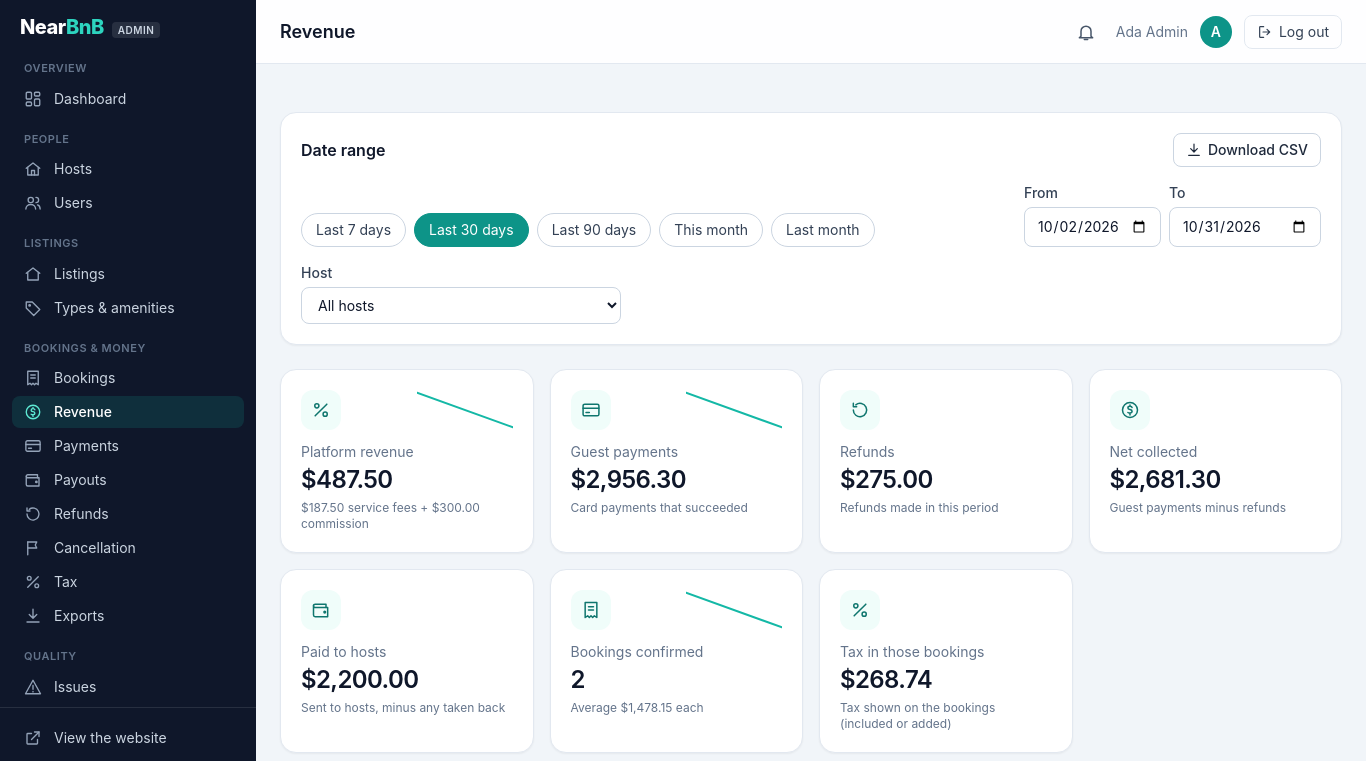
admin revenue page › limits every number to one host from the picker, and goes back to everyone
Expected: the element named "Revenue summary" is shown, [280, 369, 1342, 753]
Select "Hannah Host" in the dropdown labelled "Host": coordinates (461, 306) [301, 287, 621, 324]
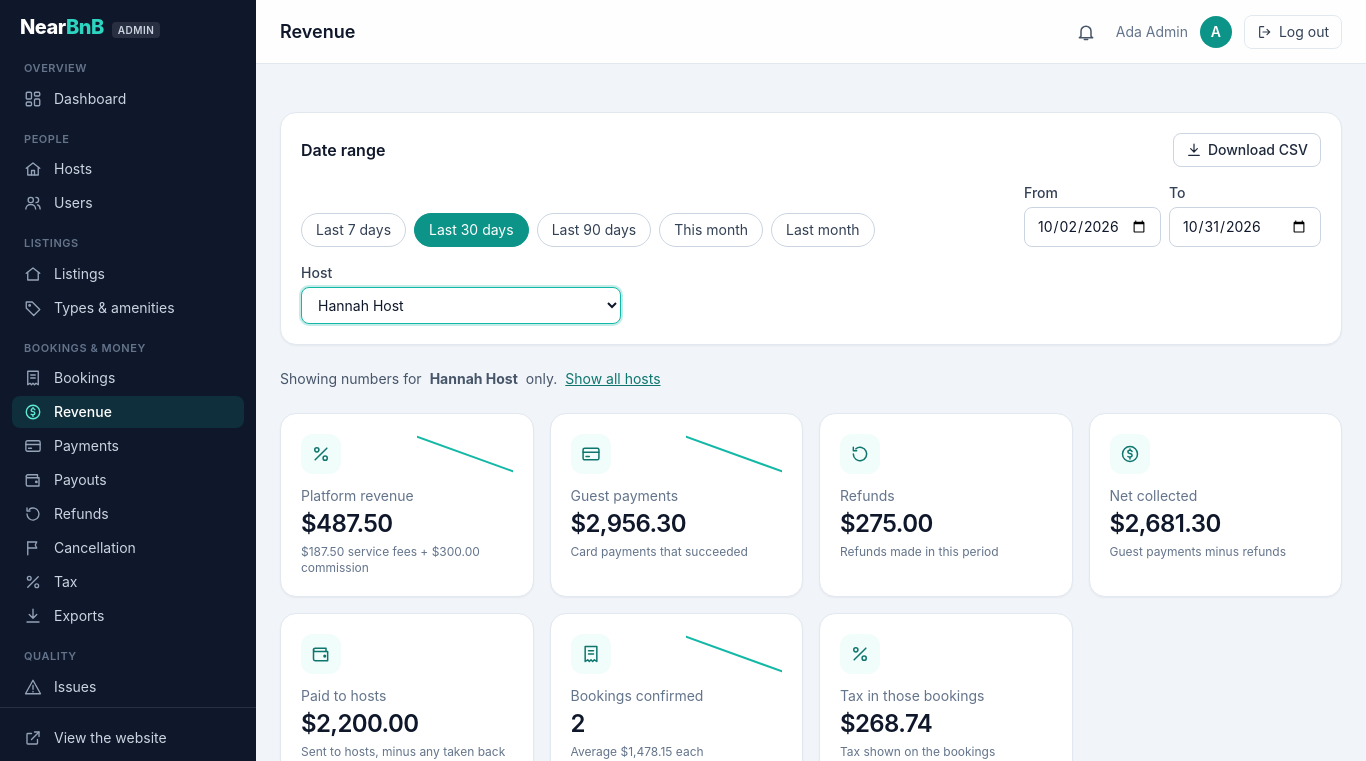
Now the text "Showing numbers for Hannah Host only. Show all hosts" is shown, box [280, 369, 660, 389]
Click the button "Show all hosts": coordinates (613, 379) [565, 369, 661, 389]
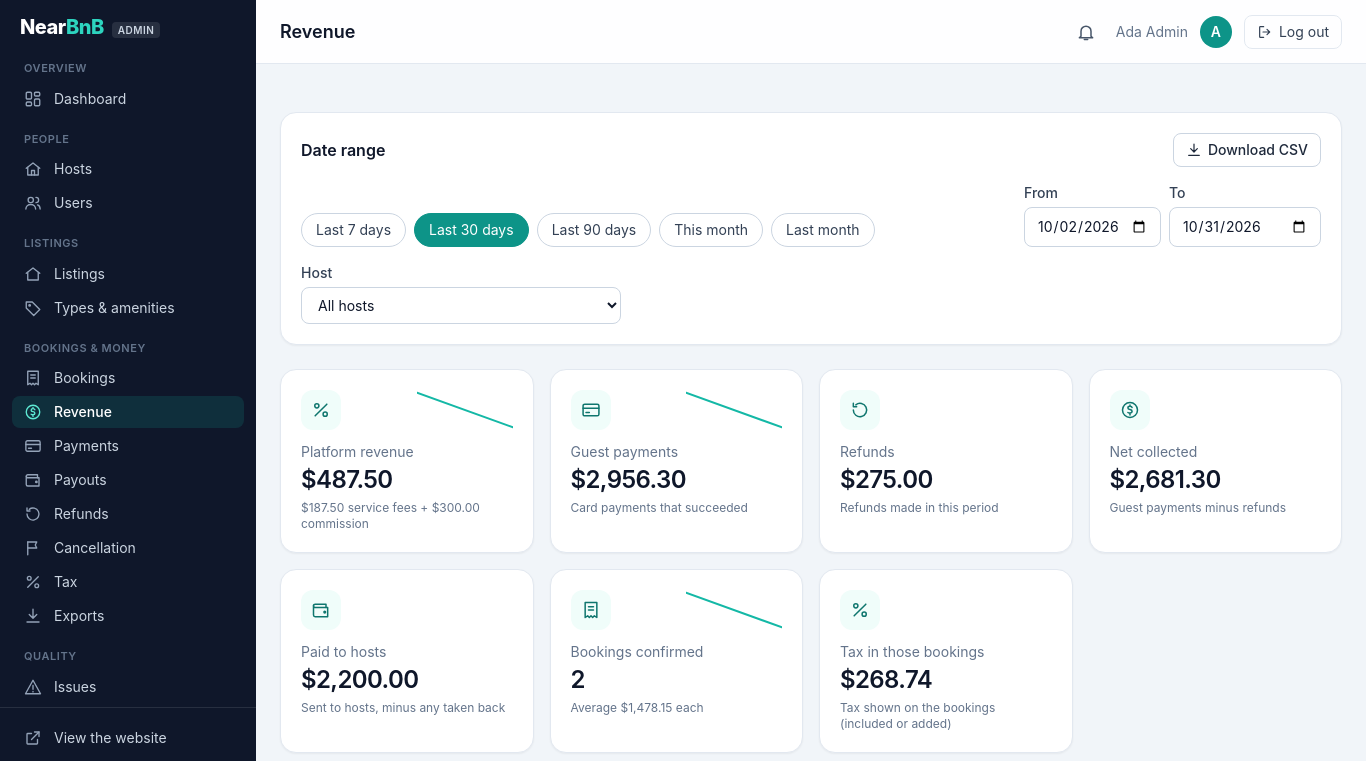
Now the text "Showing numbers for" is gone
